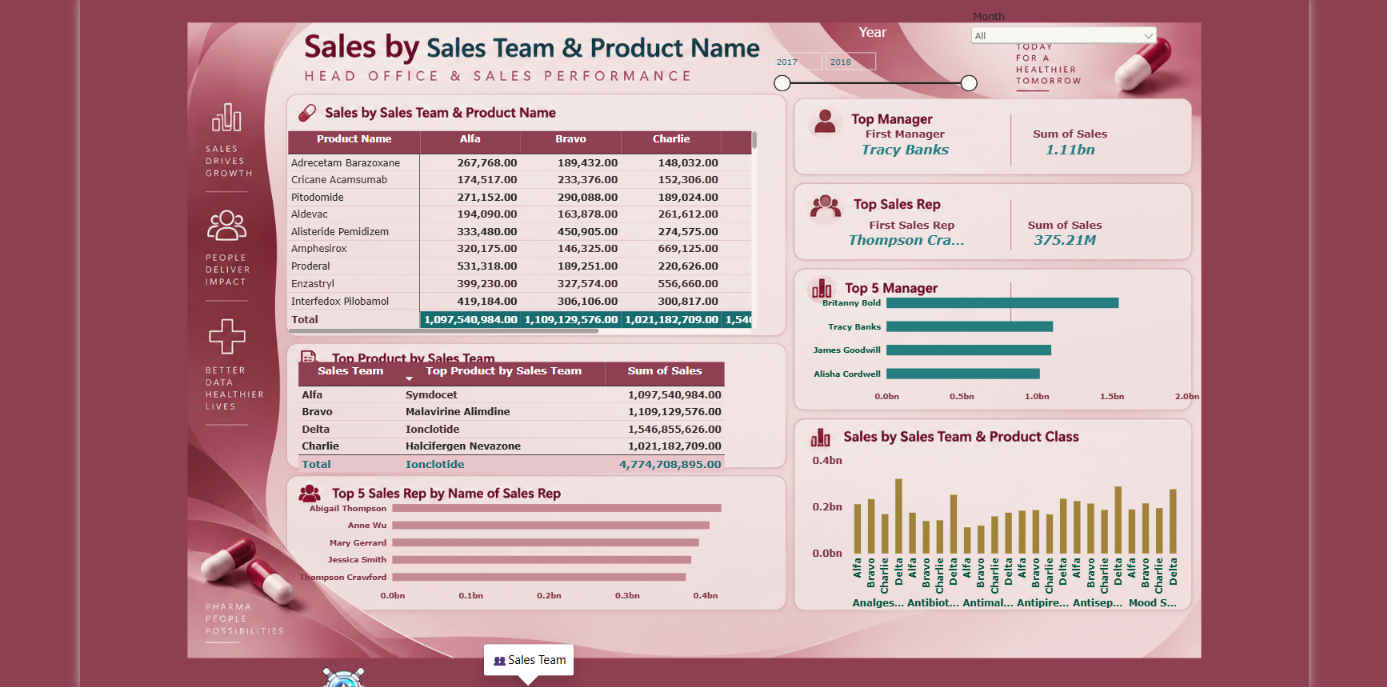

This screenshot's page, from the dashboard's own definition file:
{"tool":"powerbi","page":{"name":"👥Sales Team","canvas":[1920,1080],"ordinal":3},"visuals":[{"type":"cardVisual","title":"Top Manager","fields":{"Data":["Min(pharma-data.Manager)","Sum(pharma-data.Sales)"]},"box":[1164.7,178.4,509.8,100],"z":0},{"type":"cardVisual","title":"Top Sales Rep","fields":{"Data":["Min(pharma-data.Name of Sales Rep)","Sum(pharma-data.Sales)"]},"box":[1184.8,318,470.6,103.9],"z":1000},{"type":"tableEx","title":"Top Product by Sales Team","fields":{"Values":["pharma-data.Sales Team","pharma-data.Top Product by Sales Team","Sum(pharma-data.Sales)"]},"box":[341.2,570.6,715.7,188.2],"z":2000},{"type":"barChart","title":"Top 5 Manager","fields":{"Category":["pharma-data.Manager"],"Y":["Sum(pharma-data.Sales)"]},"box":[1127.5,433.3,637.3,219.6],"z":3000},{"type":"barChart","fields":{"Category":["pharma-data.Name of Sales Rep"],"Y":["pharma-data.Top 5 Sales Rep"]},"box":[325.5,758.8,749,203.9],"z":4000},{"type":"columnChart","title":"Sales by Sales Team & Product Class","fields":{"Category":["pharma-data.Product Class","pharma-data.Sales Team"],"Y":["Sum(pharma-data.Sales)"]},"box":[1127.5,700,609.8,280.4],"z":5000},{"type":"pivotTable","title":"Sales by Sales Team & Product Name","fields":{"Columns":["pharma-data.Sales Team"],"Rows":["pharma-data.Product Name"],"Values":["Sum(pharma-data.Sales)"]},"box":[309.8,196.1,764.7,347.1],"z":6000},{"type":"slicer","title":"Year","fields":{"Values":["pharma-data.Year"]},"box":[1074.1,42.1,331.4,105.9],"z":7000},{"type":"slicer","fields":{"Values":["pharma-data.Month"]},"box":[1388.2,19.6,300,74.5],"z":8000}]}

Visuals, with their boxes on the page's 1920x1080 design canvas (x1, y1, x2, y2). These are canvas units, not pixel positions in the 1387x687 screenshot, which may show the page scaled, cropped or inside an application window:
"Top Manager" cardVisual: 1165,178,1674,278
"Top Sales Rep" cardVisual: 1185,318,1655,422
"Top Product by Sales Team" tableEx: 341,571,1057,759
"Top 5 Manager" barChart: 1128,433,1765,653
barChart - pharma-data.Name of Sales Rep x pharma-data.Top 5 Sales Rep: 326,759,1074,963
"Sales by Sales Team & Product Class" columnChart: 1128,700,1737,980
"Sales by Sales Team & Product Name" pivotTable: 310,196,1074,543
"Year" slicer: 1074,42,1406,148
slicer - pharma-data.Month: 1388,20,1688,94
